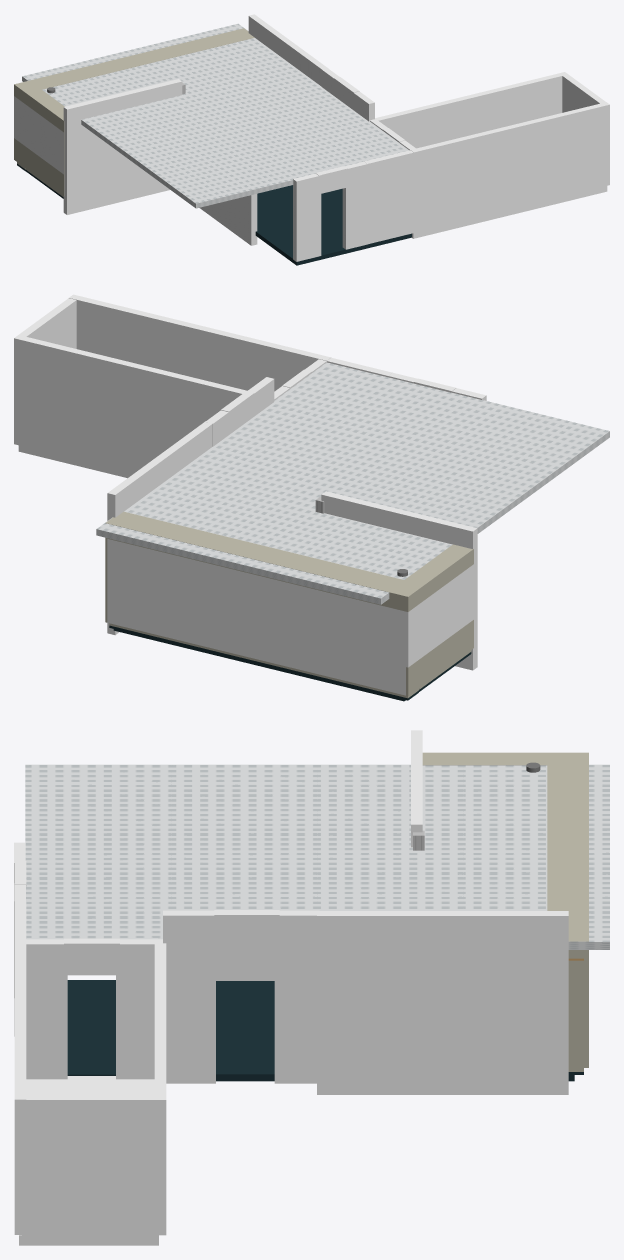
Rendered from ---- Environment ----.fbx.
The picture shows the model from 3 angles, top to bottom: view 1: azimuth 30°, elevation 25°; view 2: azimuth 150°, elevation 25°; view 3: azimuth 270°, elevation 25°; orthographic projection. The views are drawn at different scales.
Visible parts, largest first — view 1: ceiling, Wall__1_, Wall__6__1, Cube_002, Wall, floor, Wall__1__1, Wall__2__1, Wall__5__1, Wall__3__1, Wall__3__2, Cube (+4 smaller); view 2: ceiling, Cube_002, Wall, Wall__1_, Wall__6__1, Wall__3__1, Wall__3_, Cube_1, Wall__7_, Cube, floor, Wall__5_; view 3: ceiling, Wall__3__1, Wall__3_, Cube_002, floor, Wall__5_, Wall__6_, Wall__2_, Wall__4_, Cube, Wall__1_, Wall (+4 smaller).
Part boxes in pixels (left/top/right/bottom): ceiling: left=22, top=23, right=408, bottom=208; Wall__1_: left=411, top=102, right=609, bottom=232; Wall__6__1: left=63, top=79, right=182, bottom=214; Cube_002: left=14, top=28, right=254, bottom=195; Wall: left=370, top=72, right=566, bottom=148; floor: left=255, top=185, right=411, bottom=265; Wall__1__1: left=364, top=150, right=413, bottom=244; Wall__2__1: left=293, top=173, right=321, bottom=261; Wall__5__1: left=342, top=161, right=367, bottom=249; Wall__3__1: left=248, top=14, right=328, bottom=86; Wall__3__2: left=199, top=194, right=257, bottom=245; Cube: left=412, top=186, right=607, bottom=238; ceiling: left=96, top=362, right=609, bottom=604; Cube_002: left=105, top=511, right=473, bottom=695; Wall: left=14, top=335, right=275, bottom=473; Wall__1_: left=69, top=294, right=331, bottom=391; Wall__6__1: left=321, top=491, right=477, bottom=670; Wall__3__1: left=107, top=421, right=212, bottom=635; Wall__3_: left=18, top=298, right=76, bottom=348; Cube_1: left=109, top=623, right=418, bottom=700; Wall__7_: left=221, top=391, right=254, bottom=434; Cube: left=18, top=445, right=133, bottom=478; floor: left=113, top=629, right=405, bottom=701; Wall__5_: left=247, top=377, right=274, bottom=416; ceiling: left=25, top=764, right=609, bottom=949; Wall__3__1: left=317, top=911, right=568, bottom=1094; Wall__3_: left=22, top=1095, right=161, bottom=1235; Cube_002: left=422, top=752, right=588, bottom=1067; floor: left=67, top=980, right=574, bottom=1081; Wall__5_: left=163, top=910, right=215, bottom=1083; Wall__6_: left=274, top=910, right=319, bottom=1083; Wall__2_: left=26, top=939, right=67, bottom=1079; Wall__4_: left=116, top=939, right=158, bottom=1079; Cube: left=19, top=1076, right=158, bottom=1245; Wall__1_: left=14, top=939, right=26, bottom=1234; Wall: left=154, top=939, right=166, bottom=1235.
Size of the model in its own units: 2334 by 583 by 1685.
Materials: 21 (3 with a texture image).
